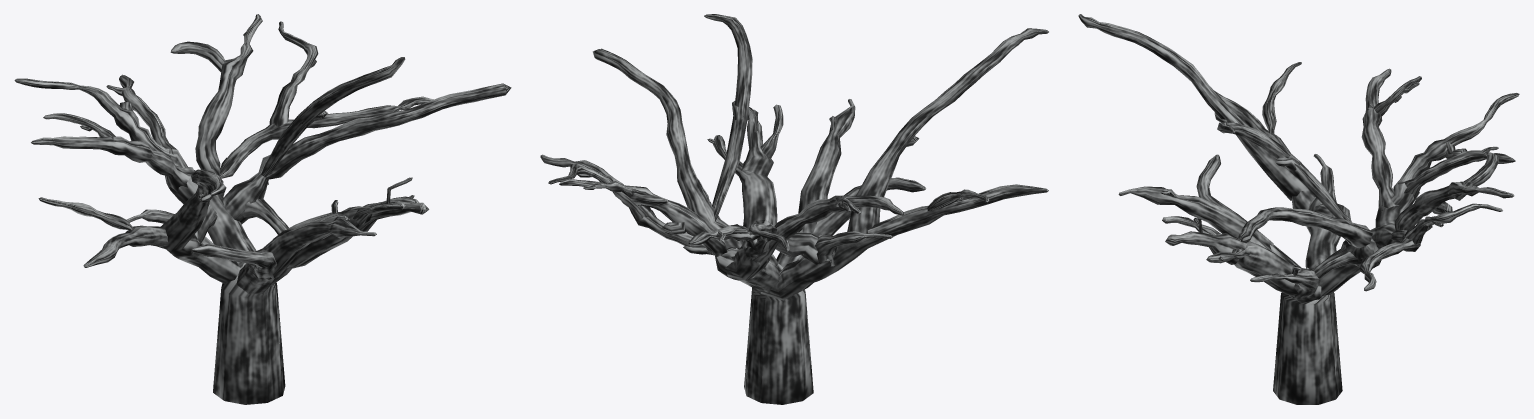
Rendered from TarTree05.glb.
3 renders of one model, left to right at view 1: azimuth 30°, elevation 25°; view 2: azimuth 150°, elevation 25°; view 3: azimuth 270°, elevation 25°, orthographic. The views are drawn at different scales.
Parts seen in each view (by area): view 1: TarTree05_limbs; view 2: TarTree05_limbs; view 3: TarTree05_limbs.
Part boxes in pixels (left/top/right/bottom): TarTree05_limbs: left=14, top=14, right=511, bottom=404; TarTree05_limbs: left=540, top=14, right=1048, bottom=404; TarTree05_limbs: left=1078, top=14, right=1519, bottom=404.
Size of the model in its own units: 10.42 by 7.55 by 9.38.
Materials: 1 (1 with a texture image).
